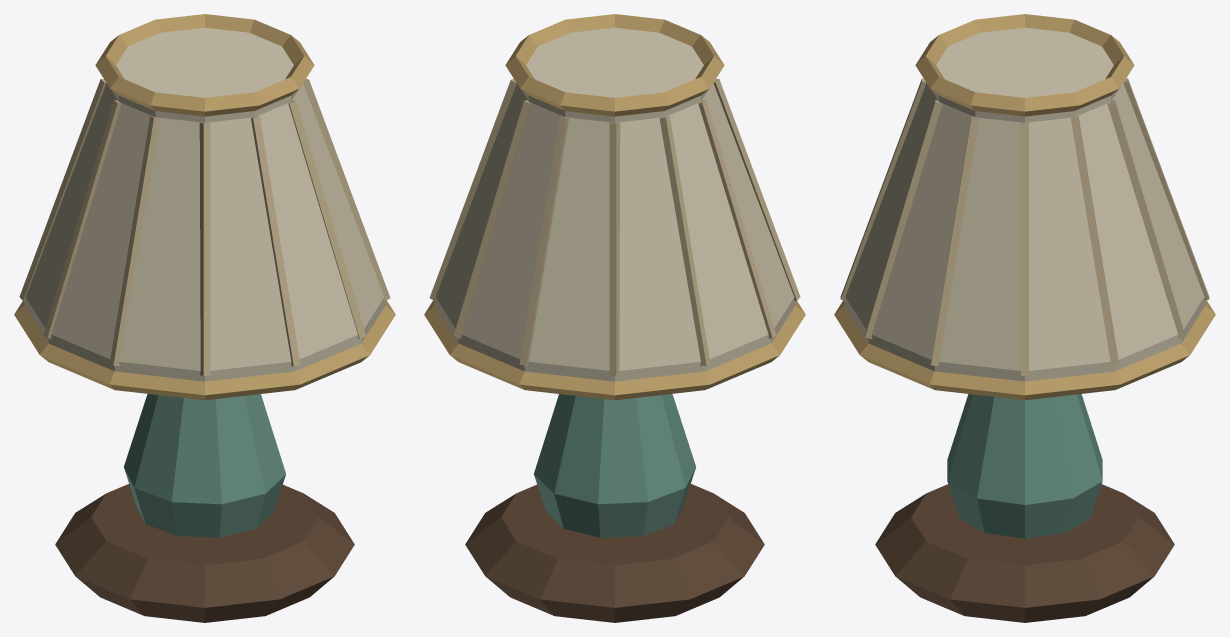
The model's file is lamp_table.glb.
The picture shows the model from 3 angles, left to right: view 1: azimuth 30°, elevation 25°; view 2: azimuth 150°, elevation 25°; view 3: azimuth 270°, elevation 25°; orthographic projection.
Parts seen in each view (by area): view 1: shade, geometry; view 2: shade, geometry; view 3: shade, geometry.
Part boxes in pixels (left/top/right/bottom): shade: left=14, top=14, right=395, bottom=400; geometry: left=55, top=394, right=354, bottom=622; shade: left=424, top=14, right=805, bottom=400; geometry: left=465, top=394, right=764, bottom=622; shade: left=834, top=14, right=1215, bottom=400; geometry: left=875, top=394, right=1174, bottom=622.
Bounding box in the file's own units: 0.444 × 0.662 × 0.444.
